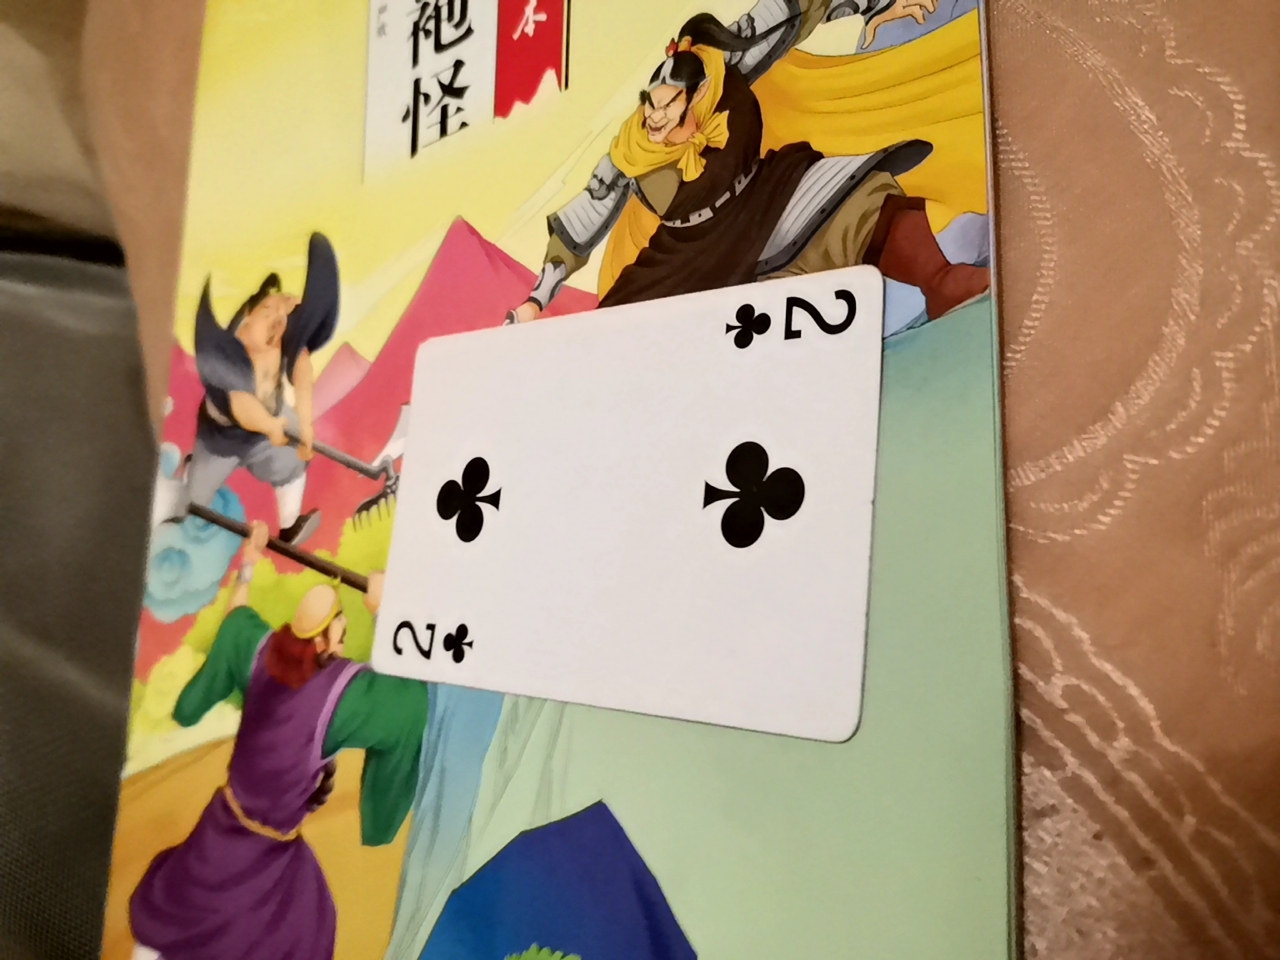mh 2: (367, 268, 895, 745)
